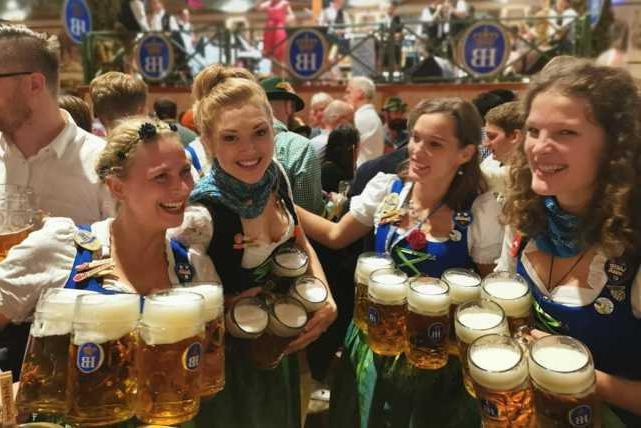Drunk: (522, 100, 593, 195), (209, 107, 275, 185), (138, 141, 195, 224), (409, 117, 458, 179)
